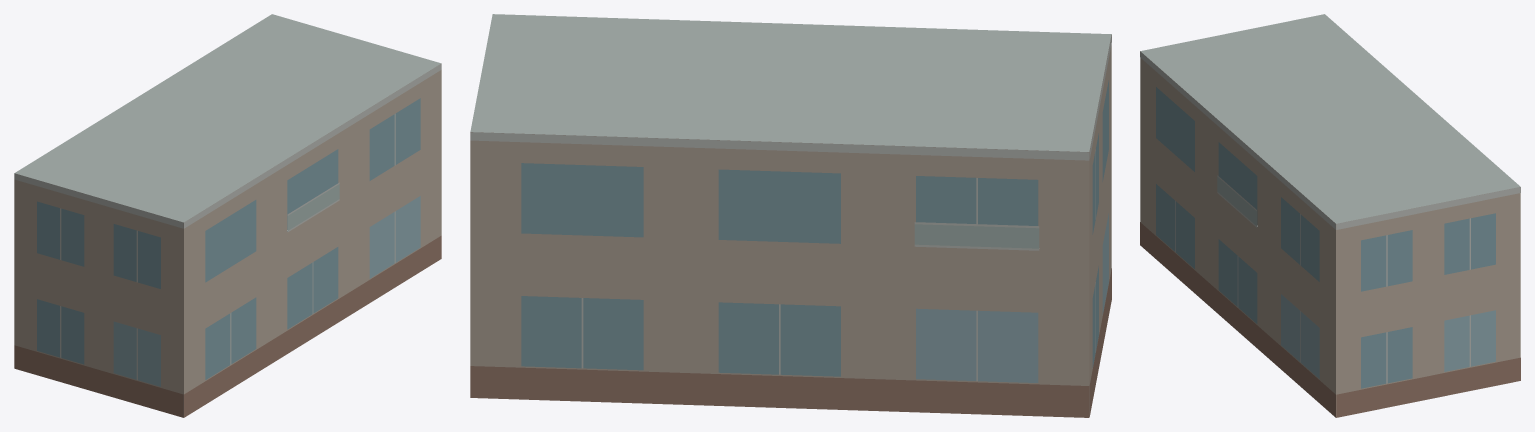
Rendered from survey-upis-32728526.glb.
The picture shows the model from 3 angles, left to right: view 1: azimuth 30°, elevation 25°; view 2: azimuth 150°, elevation 25°; view 3: azimuth 270°, elevation 25°; orthographic projection. The views are drawn at different scales.
Visible parts, largest first — view 1: survey-upis-32728526.tmp; view 2: survey-upis-32728526.tmp; view 3: survey-upis-32728526.tmp.
Boxes of the visible parts, box(x1,y1,x2,y2) form: survey-upis-32728526.tmp: box(14, 14, 441, 417); survey-upis-32728526.tmp: box(470, 14, 1111, 417); survey-upis-32728526.tmp: box(1140, 14, 1520, 417).
Bounding box in the file's own units: 17.64 × 7.6 × 13.52.
